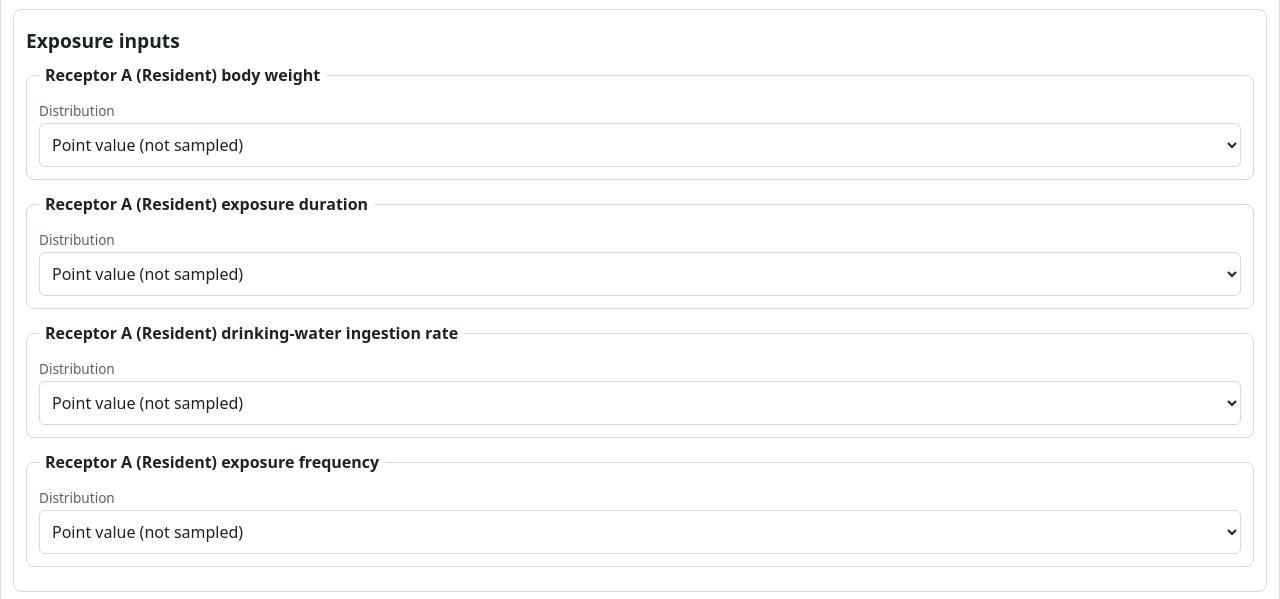
CleanupUncertainty › refuses a protection fraction outside 0 to 100 percent
This screenshot has width=1280, height=599.
Step 1. Select "Uniform" in the dropdown labelled "Distribution" below "Receptor A (Resident) body weight" → x=640, y=145, box [39,123,1241,167]
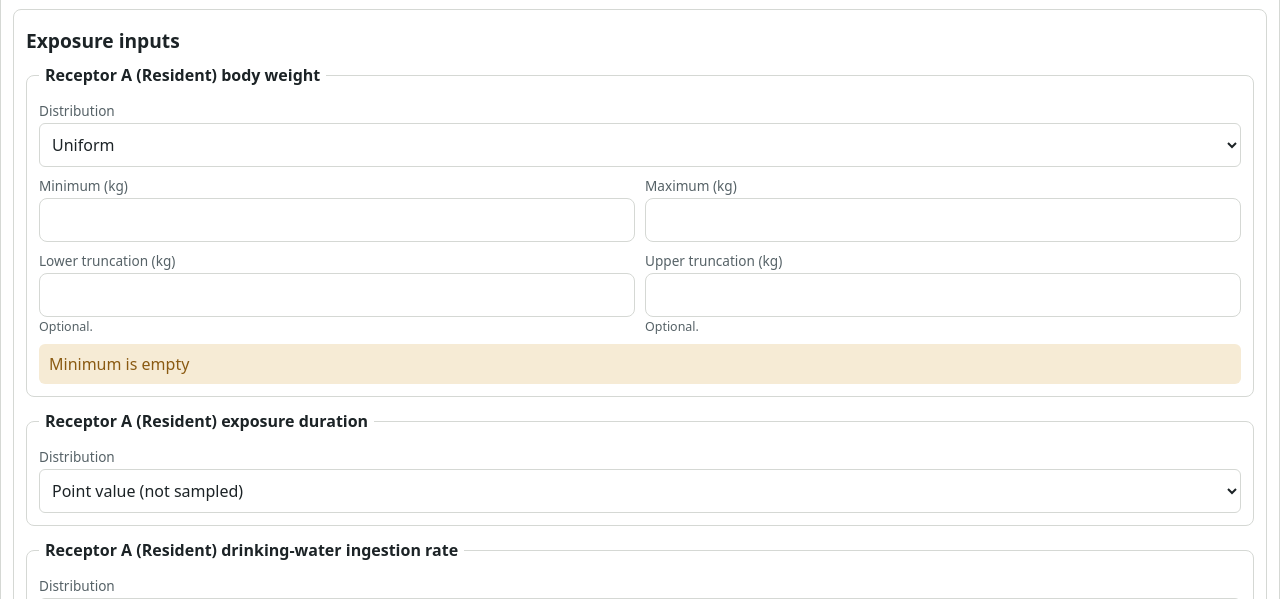
Step 2. Type "50" into the field labelled "Minimum (kg)" → x=337, y=220, box [39,198,635,242]
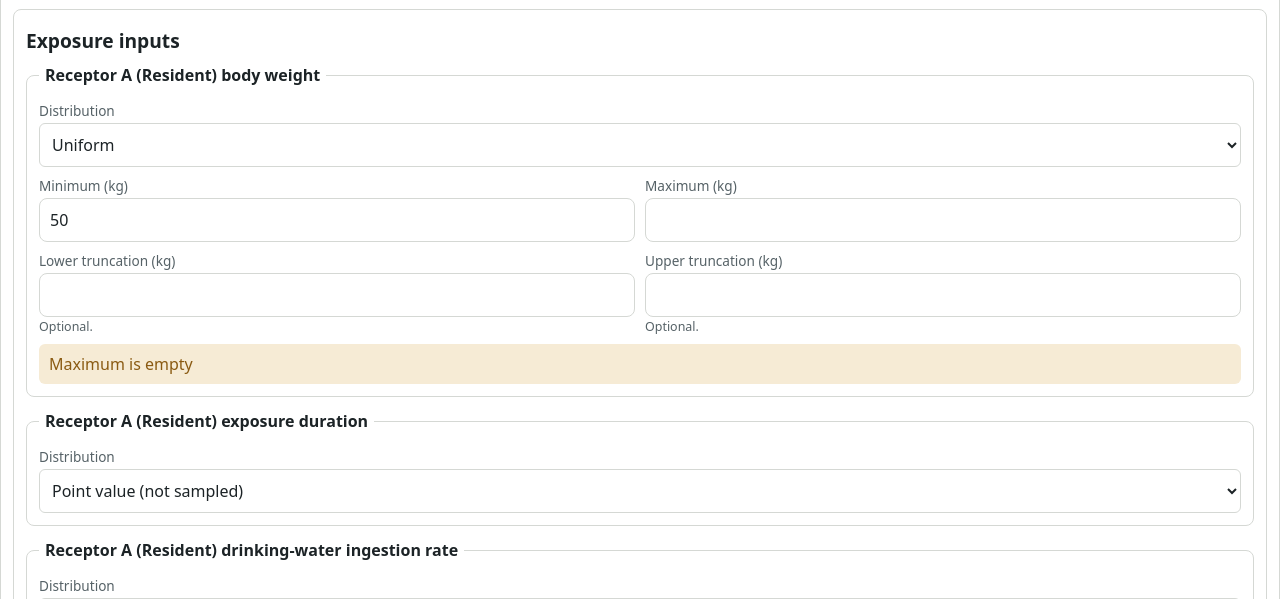
Step 3. Type "100" into the field labelled "Maximum (kg)" → x=943, y=220, box [645,198,1241,242]
(page scrolled)
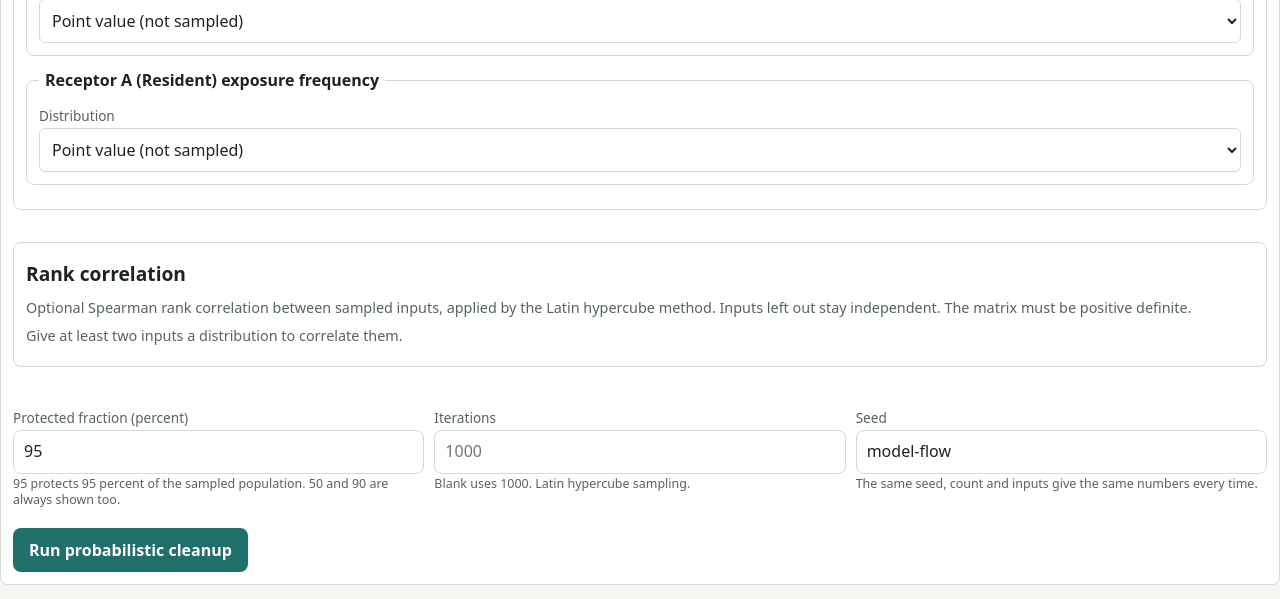
Step 4. Replace the text in the field labelled "Protect" with "100" → x=219, y=452, box [13,430,424,474]
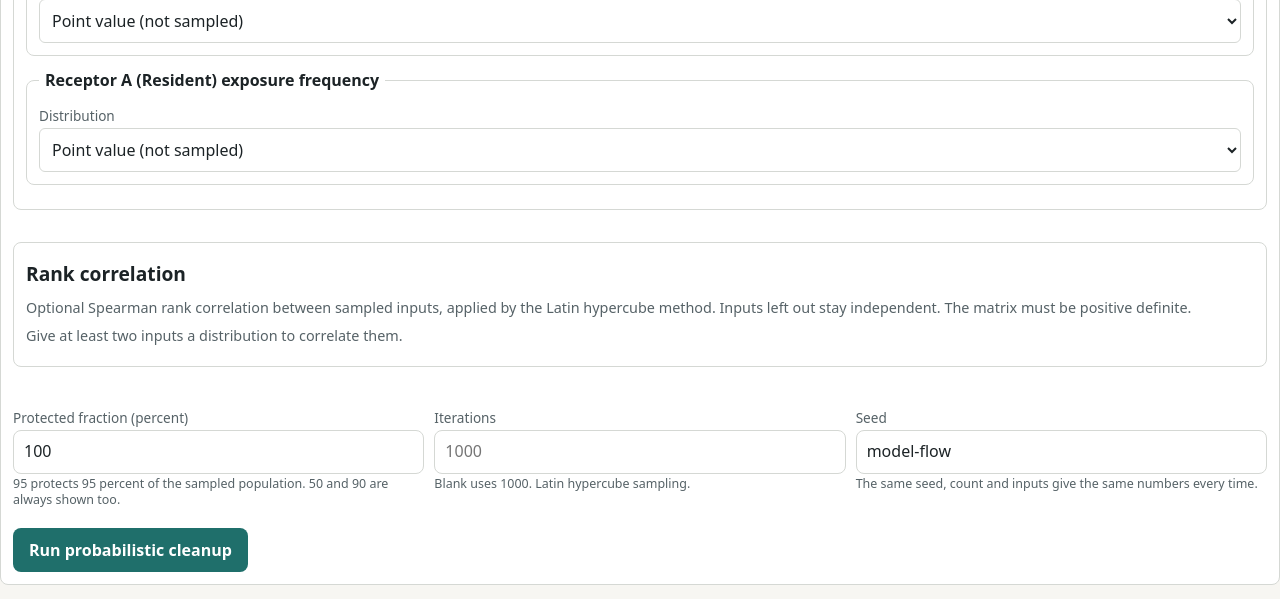
Step 5. Click the button "Run probabilistic cleanup" → x=130, y=550, box [13,528,248,572]
(page scrolled)
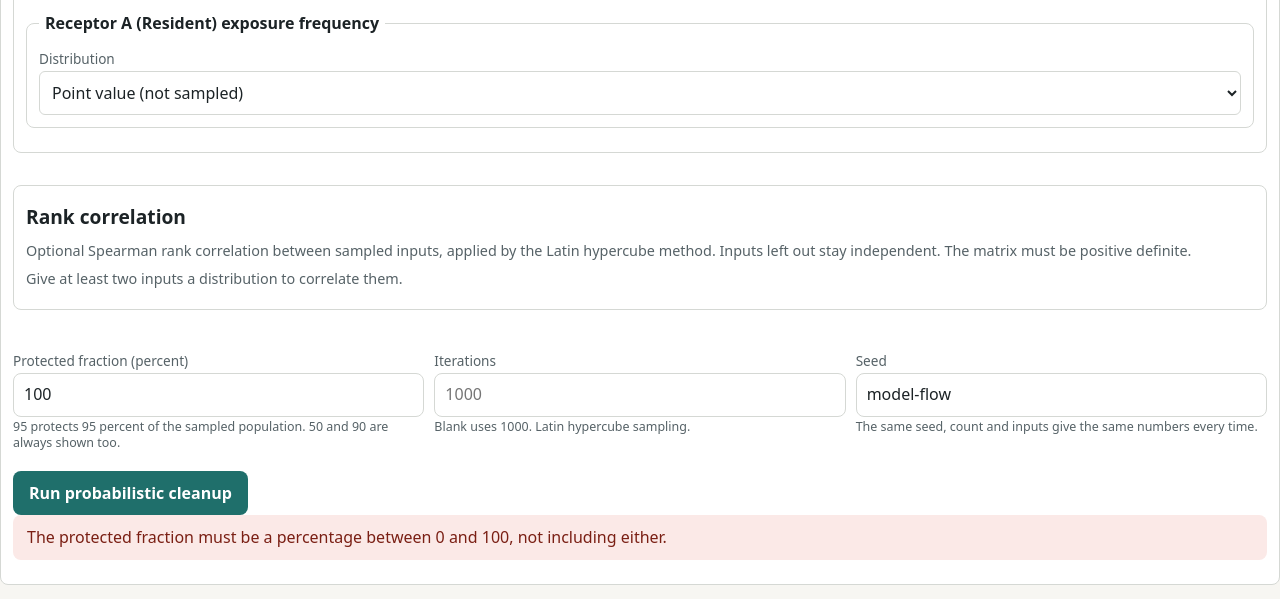
Expected: the message shows "between 0 and 100", [27,526,667,548]
